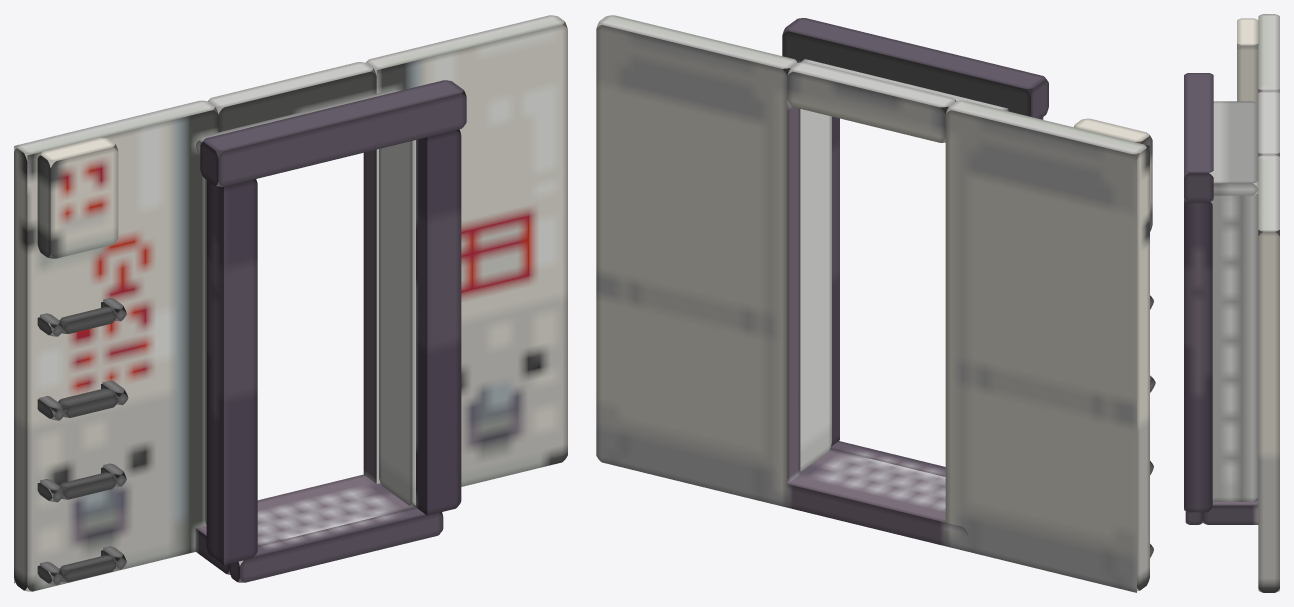
File: end_face_original_25g_3.obj
3 renders of one model, left to right at view 1: azimuth 30°, elevation 25°; view 2: azimuth 150°, elevation 25°; view 3: azimuth 270°, elevation 25°, orthographic. The views are drawn at different scales.
Parts seen in each view (by area): view 1: cube; view 2: cube; view 3: cube.
Boxes of the visible parts, x1,y1,x2,y2 form: cube: (14,15,567,591); cube: (596,15,1155,592); cube: (1184,14,1279,592).
Size of the model in its own units: 2.99 by 2.31 by 0.5562.
